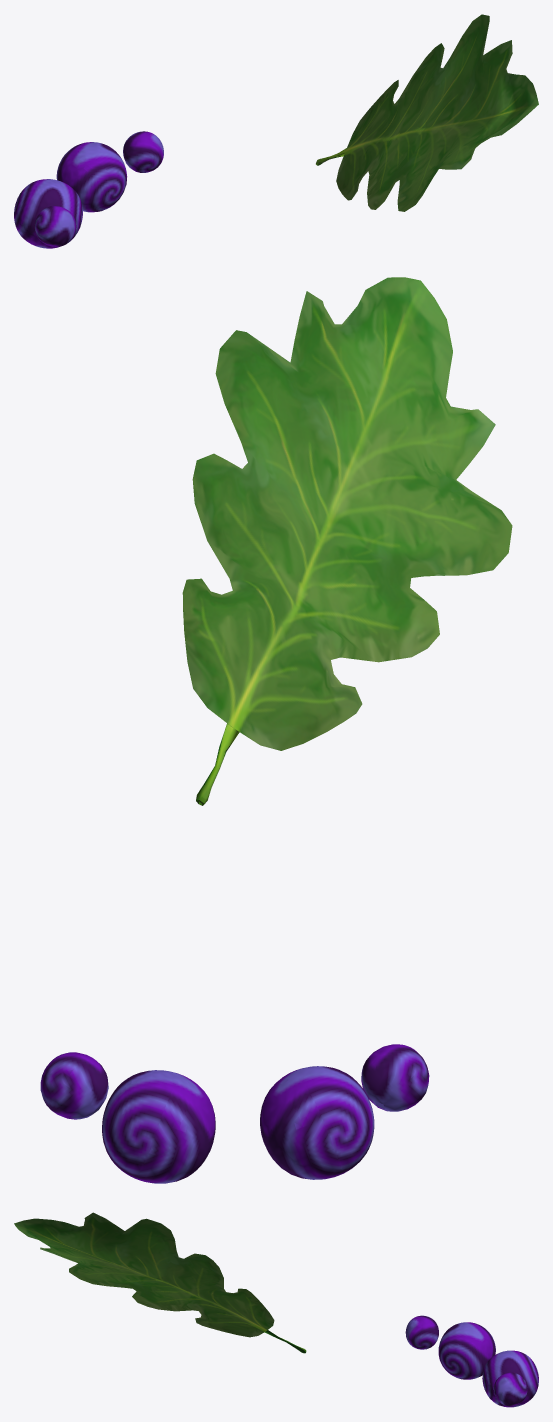
Rendered from sculpture_04.glb.
3 renders of one model, top to bottom at view 1: azimuth 30°, elevation 25°; view 2: azimuth 150°, elevation 25°; view 3: azimuth 270°, elevation 25°, orthographic. The views are drawn at different scales.
Parts seen in each view (by area): view 1: SCL_02_04; view 2: SCL_02_04; view 3: SCL_02_04.
Boxes of the visible parts, <box> form: SCL_02_04: <box>14,14,538,248</box>; SCL_02_04: <box>40,277,512,1183</box>; SCL_02_04: <box>14,1212,538,1407</box>.
Bounding box in the file's own units: 0.388 × 0.4106 × 0.7574.
2 materials, 2 textured.
